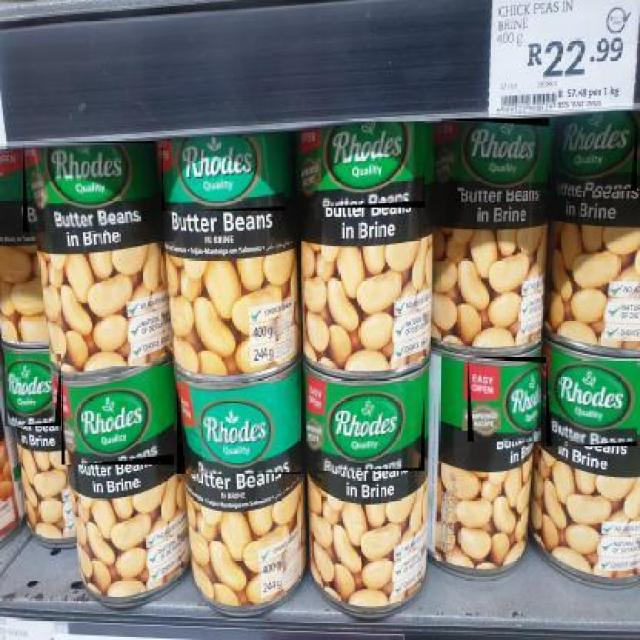Beans: (23, 141, 155, 234), (292, 122, 426, 209), (61, 366, 176, 466), (177, 384, 301, 476), (306, 380, 426, 472), (162, 137, 286, 212), (440, 119, 551, 193), (546, 360, 639, 448), (468, 357, 548, 443), (558, 111, 638, 192), (4, 354, 62, 428)
